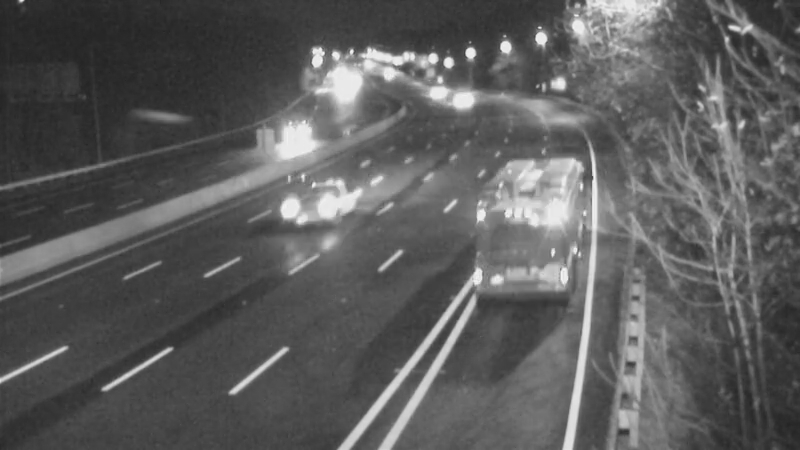vehicle: (483, 161, 563, 241), (275, 160, 355, 240), (407, 65, 457, 115), (433, 75, 483, 125), (271, 113, 321, 163), (317, 63, 367, 113)
